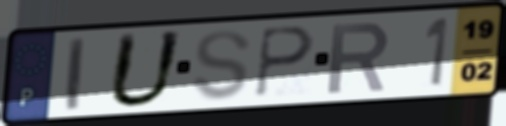1: (422, 15, 451, 89)
I: (64, 34, 87, 113)
P: (253, 24, 318, 101)
R: (324, 20, 393, 97)
S: (189, 27, 254, 103)
U: (104, 29, 187, 111)
